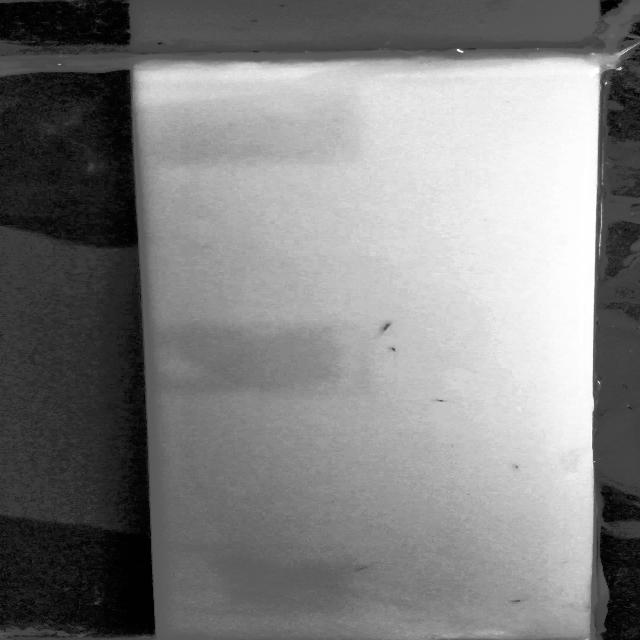shrimp: (347, 561, 380, 572), (378, 316, 393, 336), (506, 461, 530, 473), (506, 596, 530, 606), (389, 343, 402, 357), (432, 398, 456, 405)
